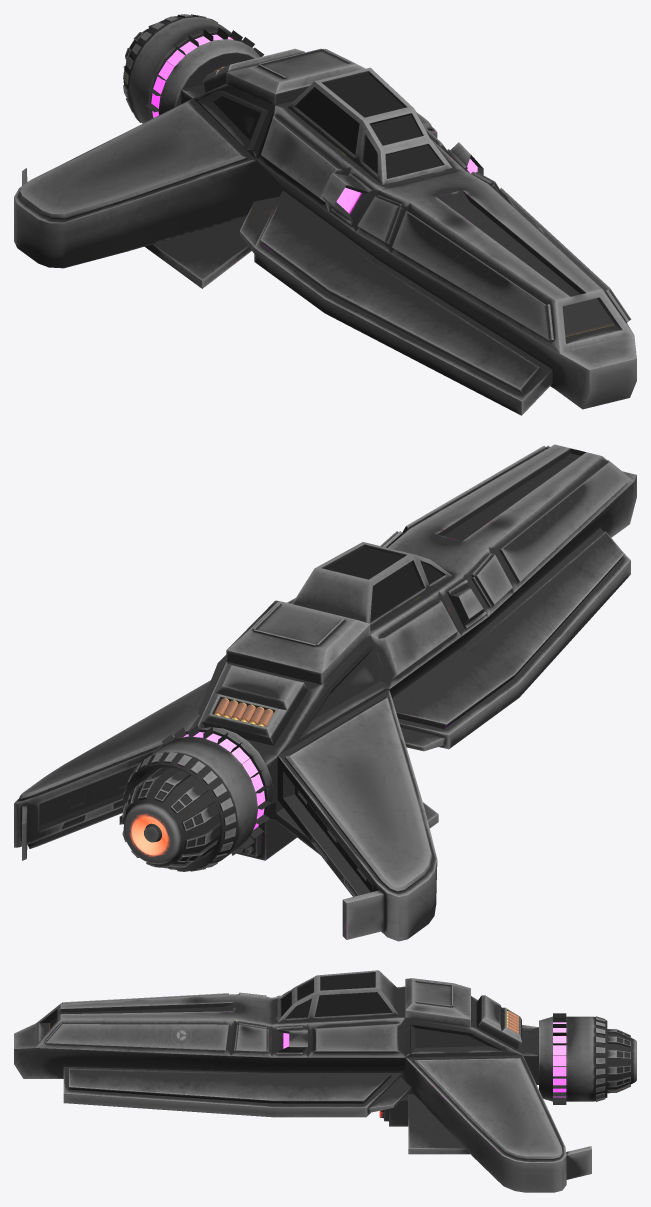
File: spaceship.glb
3 renders of one model, top to bottom at view 1: azimuth 30°, elevation 25°; view 2: azimuth 150°, elevation 25°; view 3: azimuth 270°, elevation 25°, orthographic. The views are drawn at different scales.
Visible parts, largest first — view 1: Cube.001, Cube.001_RPanel.001, Cylinder.002, Cube.001_RPanel.003_RExtr.001, Cube.001_RPanel.003_RExtr, Cube.003, Cube.001_RPanel.003; view 2: Cube.001, Cube.001_RPanel.001, Cylinder.002, Cylinder.003, Cube.001_RPanel.003_RExtr.001, Cube.003, Cube.002, Cylinder.004, Cube.001_RPanel.003_RExtr; view 3: Cube.001, Cube.001_RPanel.003, Cylinder.002, Cube.001_RPanel.003_RExtr, Cylinder.003, Cube.003, Cube.002, Cube.001_RPanel.003_RExtr.001.
Part boxes in pixels (<box>): Cube.001: <box>14,49,636,415</box>; Cube.001_RPanel.001: <box>193,83,559,352</box>; Cylinder.002: <box>123,14,264,123</box>; Cube.001_RPanel.003_RExtr.001: <box>331,173,553,340</box>; Cube.001_RPanel.003_RExtr: <box>447,149,631,322</box>; Cube.003: <box>202,48,304,92</box>; Cube.001_RPanel.003: <box>424,126,633,333</box>; Cube.001: <box>14,444,636,941</box>; Cube.001_RPanel.001: <box>278,456,633,755</box>; Cylinder.002: <box>122,725,272,871</box>; Cylinder.003: <box>121,767,220,868</box>; Cube.001_RPanel.003_RExtr.001: <box>447,460,630,628</box>; Cube.003: <box>202,664,307,745</box>; Cube.002: <box>236,819,296,860</box>; Cylinder.004: <box>214,698,273,726</box>; Cube.001_RPanel.003_RExtr: <box>380,445,549,547</box>; Cube.001: <box>14,970,591,1192</box>; Cube.001_RPanel.003: <box>36,1018,522,1057</box>; Cylinder.002: <box>539,1013,607,1104</box>; Cube.001_RPanel.003_RExtr: <box>45,1023,302,1054</box>; Cylinder.003: <box>607,1029,636,1093</box>; Cube.003: <box>476,995,521,1048</box>; Cube.002: <box>379,1094,408,1126</box>; Cube.001_RPanel.003_RExtr.001: <box>53,992,282,1009</box>.
Size of the model in its own units: 9.24 by 5.01 by 18.93.
2 materials, 2 textured.
